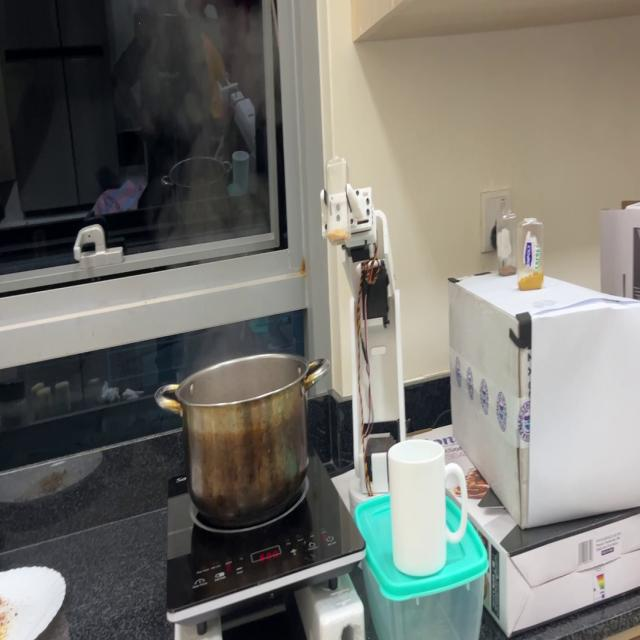cooking_pot: (154, 351, 330, 521)
curry_powder: (517, 269, 543, 290)
garlic_powder: (327, 230, 351, 248)
maggie_open: (498, 260, 516, 277)
